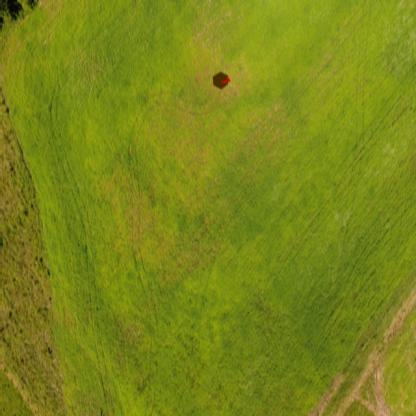7: (221, 76, 231, 86)
hexagon: (212, 72, 228, 90)
